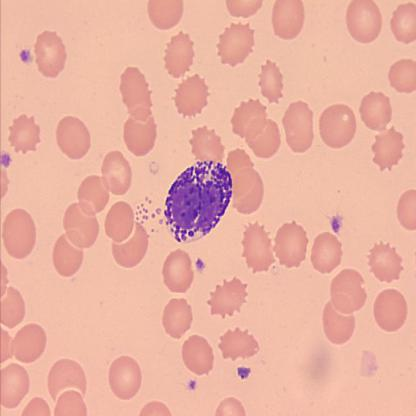Basophil: (162, 157, 233, 244)
